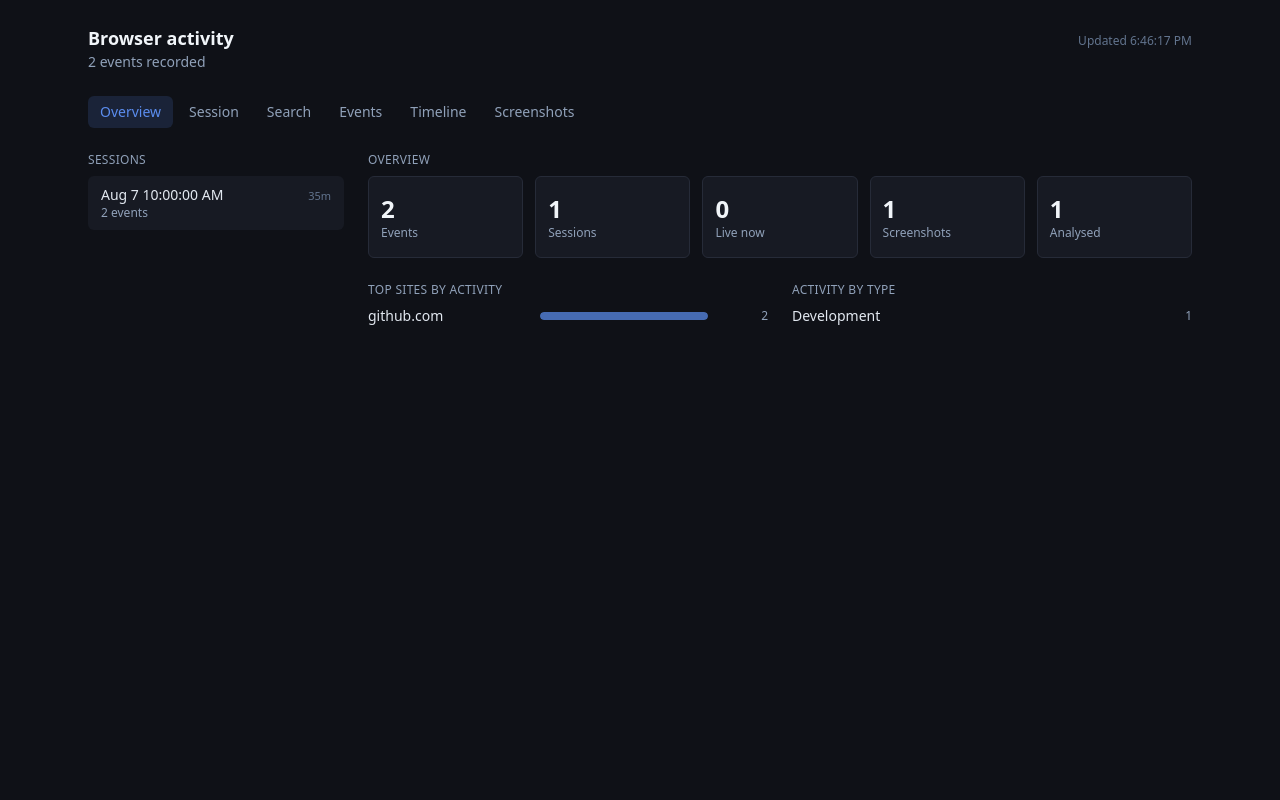
view switching › switches between all six views
Check: the heading "Top sites by activity" is shown, box [368, 281, 502, 298]
Click the button "Events": (361, 112) [327, 96, 394, 128]
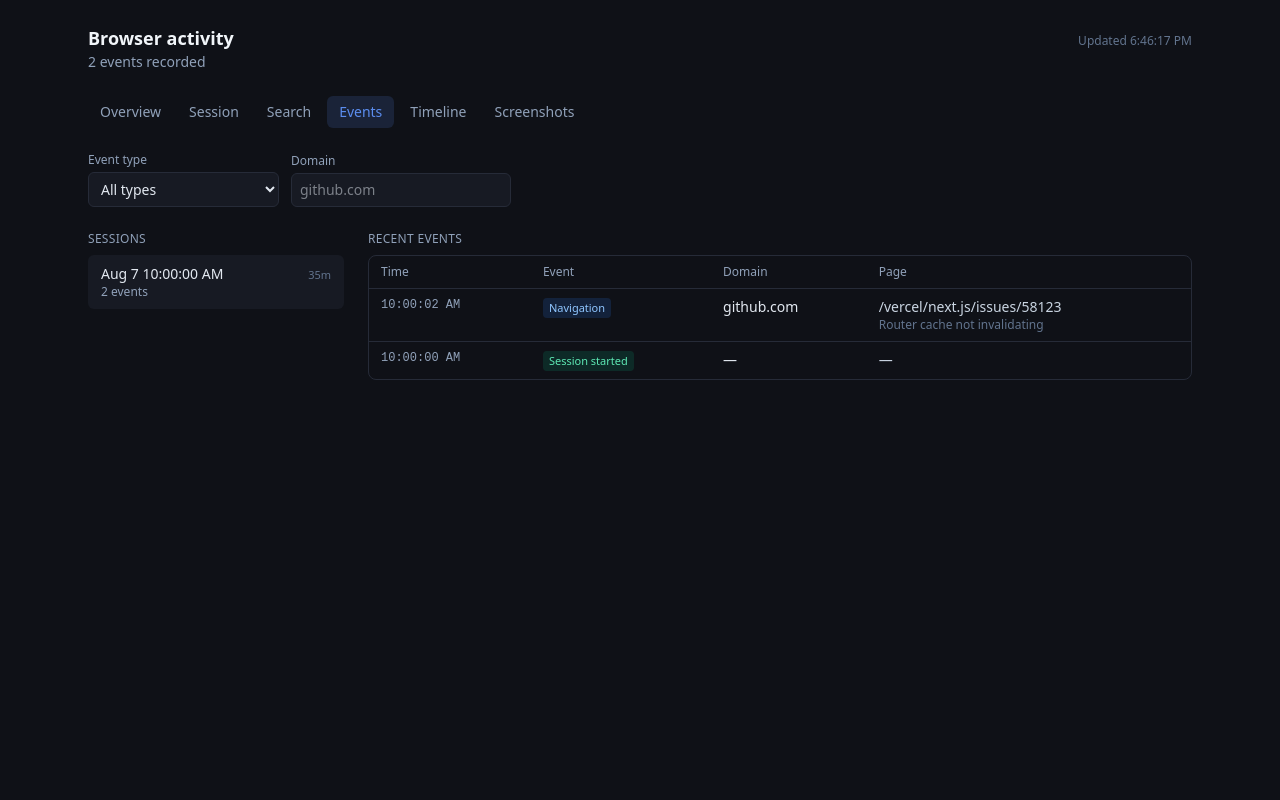
Check: the heading "Recent events" is shown, box [368, 230, 462, 247]
Click the button "Timeline": (438, 112) [398, 96, 478, 128]
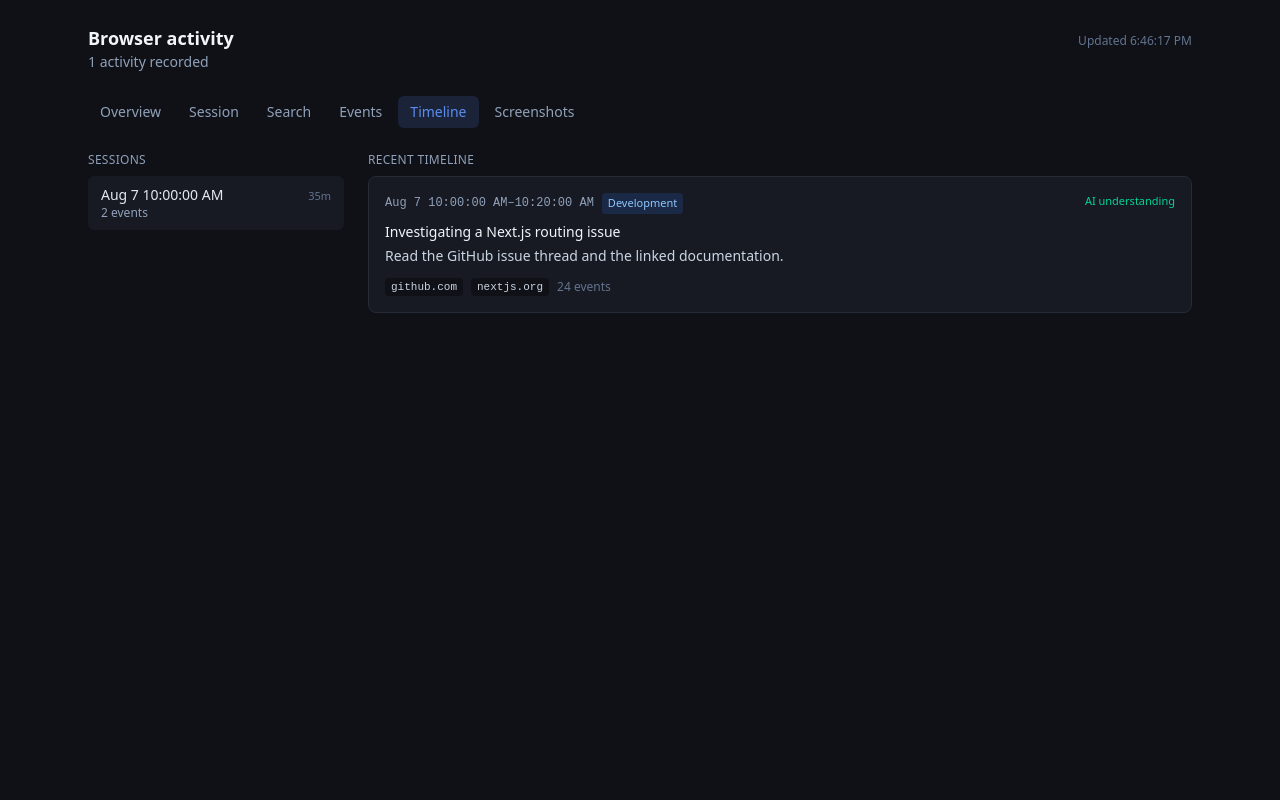
Check: the heading "Recent timeline" is shown, box [368, 151, 474, 168]
Click the button "Screenshots": (534, 112) [482, 96, 586, 128]
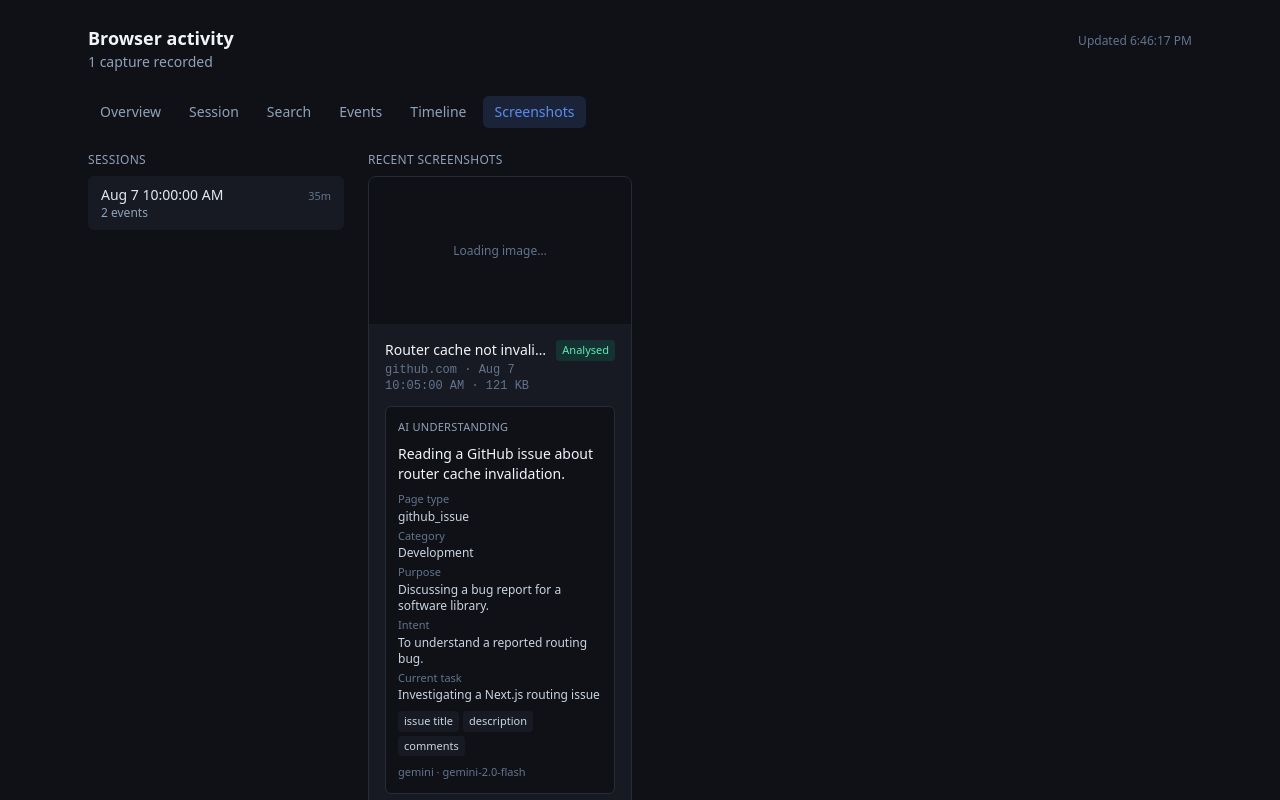
Check: the heading "Recent screenshots" is shown, box [368, 151, 503, 168]
Click the button "Search": (289, 112) [255, 96, 323, 128]
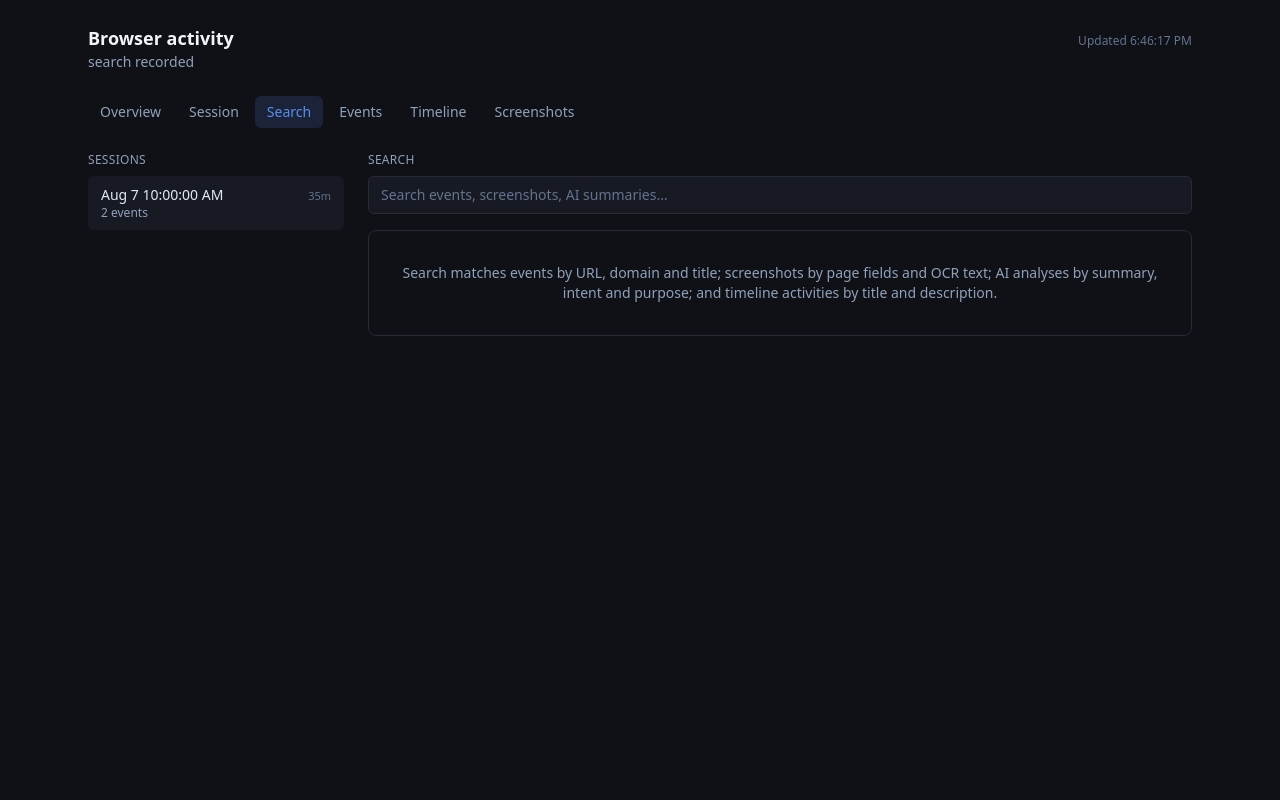
Check: the search field named "Search query" is shown, box [368, 176, 1192, 214]
Click the button "Overview": (131, 112) [88, 96, 173, 128]
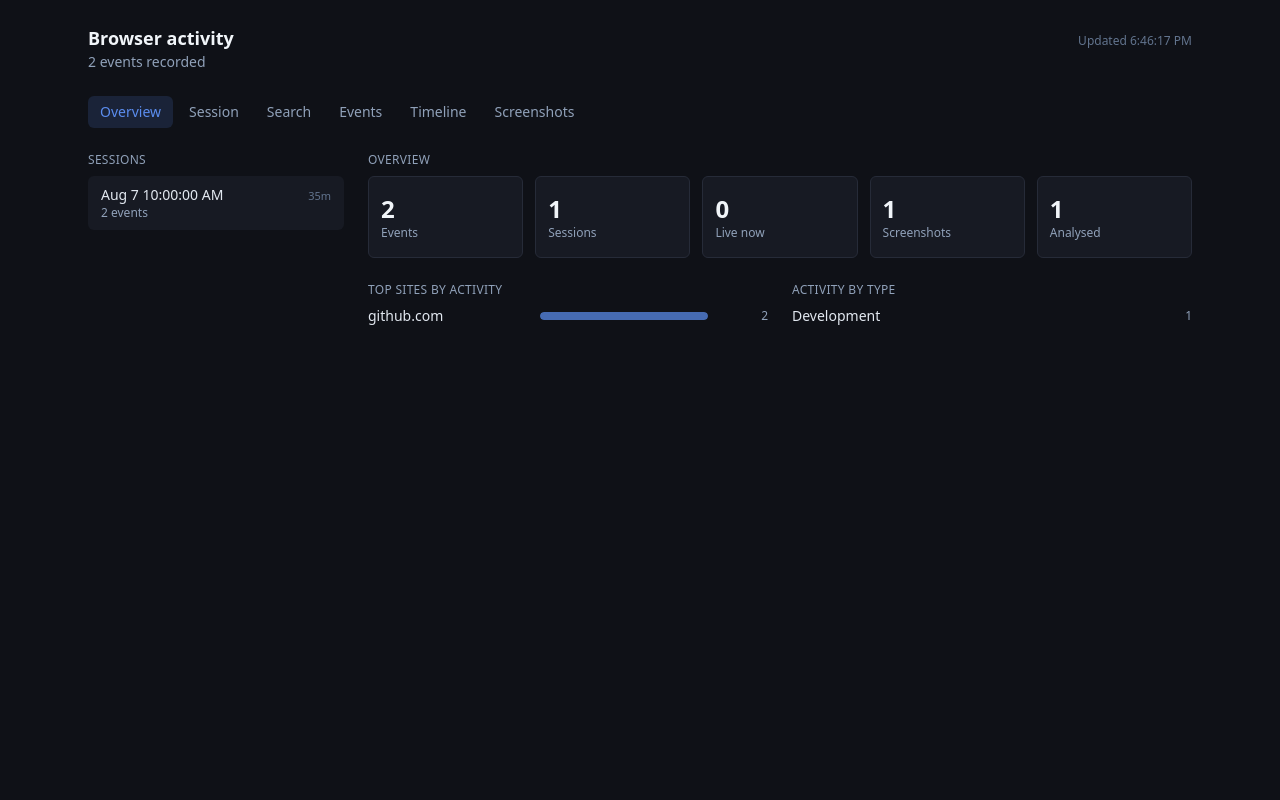
Check: the heading "Top sites by activity" is shown, box [368, 281, 502, 298]
